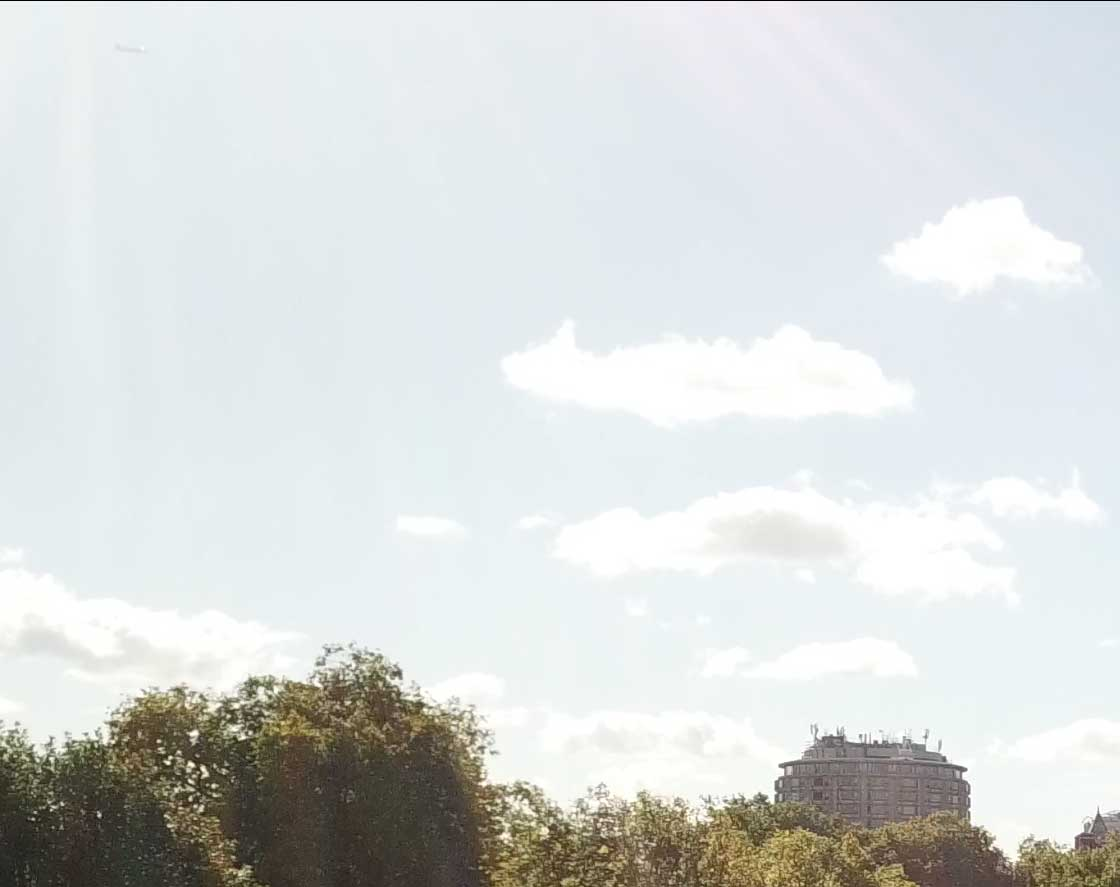building: (770, 719, 997, 855)
cloud: (532, 474, 1108, 626), (2, 519, 321, 714), (491, 316, 927, 436), (877, 190, 1111, 306), (693, 635, 942, 700)
trees: (1, 639, 511, 876)
